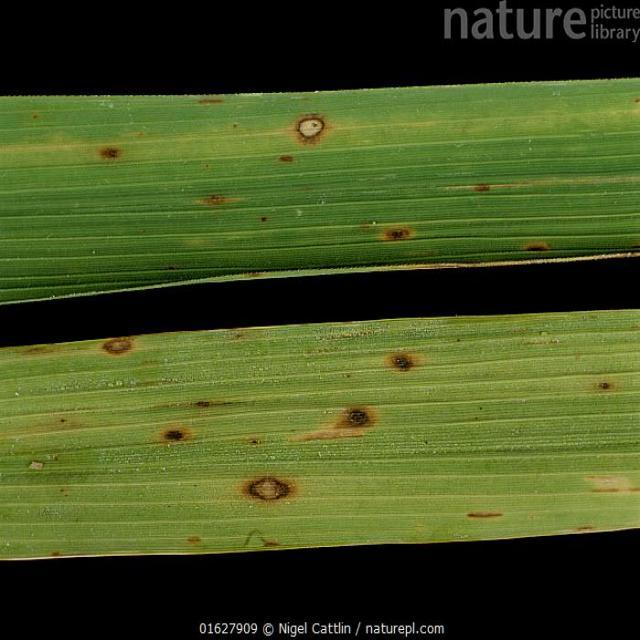Rice_Brownspot: (292, 388, 396, 448), (229, 466, 320, 513), (368, 203, 432, 249), (376, 346, 434, 394), (140, 412, 203, 452), (86, 323, 146, 359), (580, 364, 622, 412), (290, 102, 338, 143), (88, 127, 128, 173), (190, 186, 255, 212), (461, 504, 516, 530), (8, 450, 54, 472), (173, 530, 220, 548), (464, 174, 494, 200), (188, 92, 233, 108), (516, 236, 558, 252), (272, 146, 301, 163)
